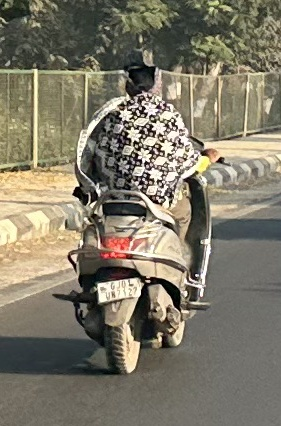BikeWithRider: (50, 49, 232, 379)
NoHelmet: (112, 47, 169, 103), (120, 53, 163, 104)
